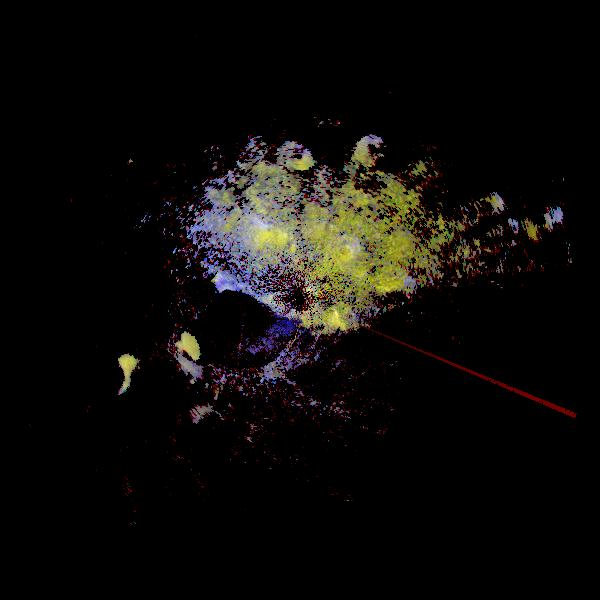roost: (69, 340, 141, 412), (143, 326, 206, 389), (281, 137, 317, 173), (354, 134, 387, 167)
